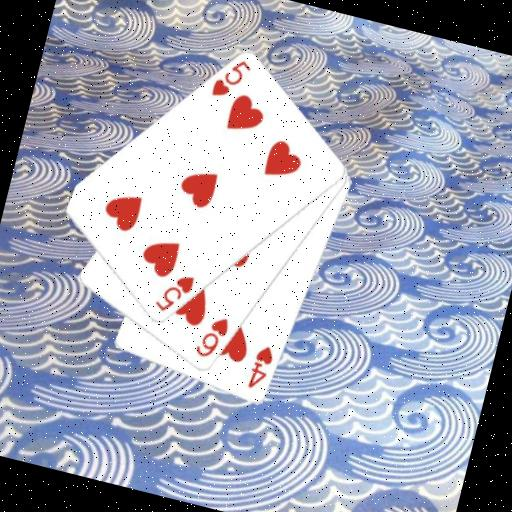4H: (244, 341, 278, 394)
5H: (207, 52, 254, 106), (150, 266, 197, 319)
6H: (191, 310, 233, 363)
